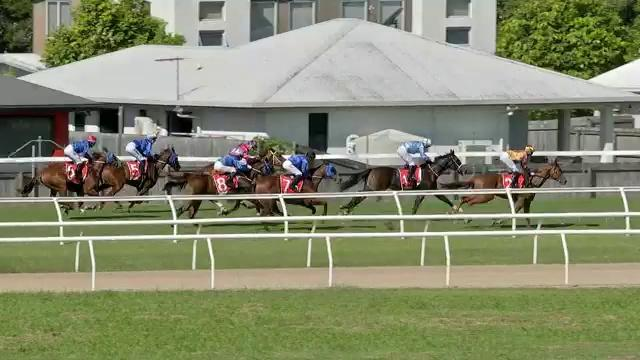racing-horse: (454, 120, 572, 235), (349, 130, 470, 236), (23, 132, 128, 220), (257, 142, 344, 232), (105, 121, 189, 213), (187, 154, 275, 228), (239, 132, 287, 182)
